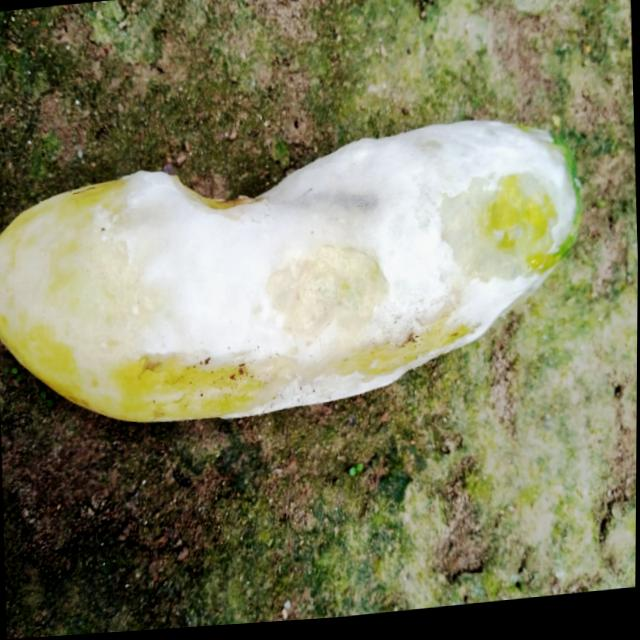Pythium-Fruit-Rot: (101, 115, 582, 434)
